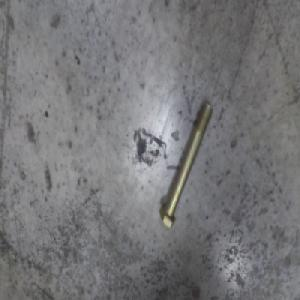Bolt: (158, 99, 211, 226)
